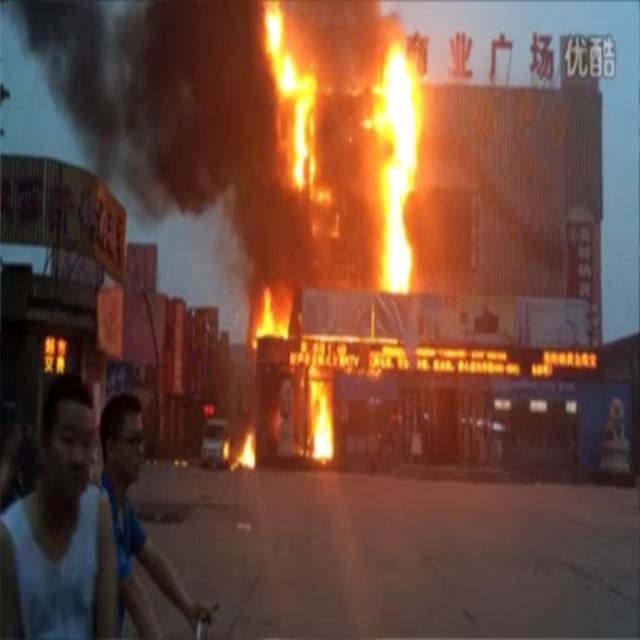fire: (370, 34, 420, 290), (263, 3, 323, 198), (251, 286, 290, 346), (308, 378, 332, 460), (224, 427, 256, 470), (42, 330, 67, 372)
smoke: (24, 3, 254, 172), (231, 196, 299, 287)
